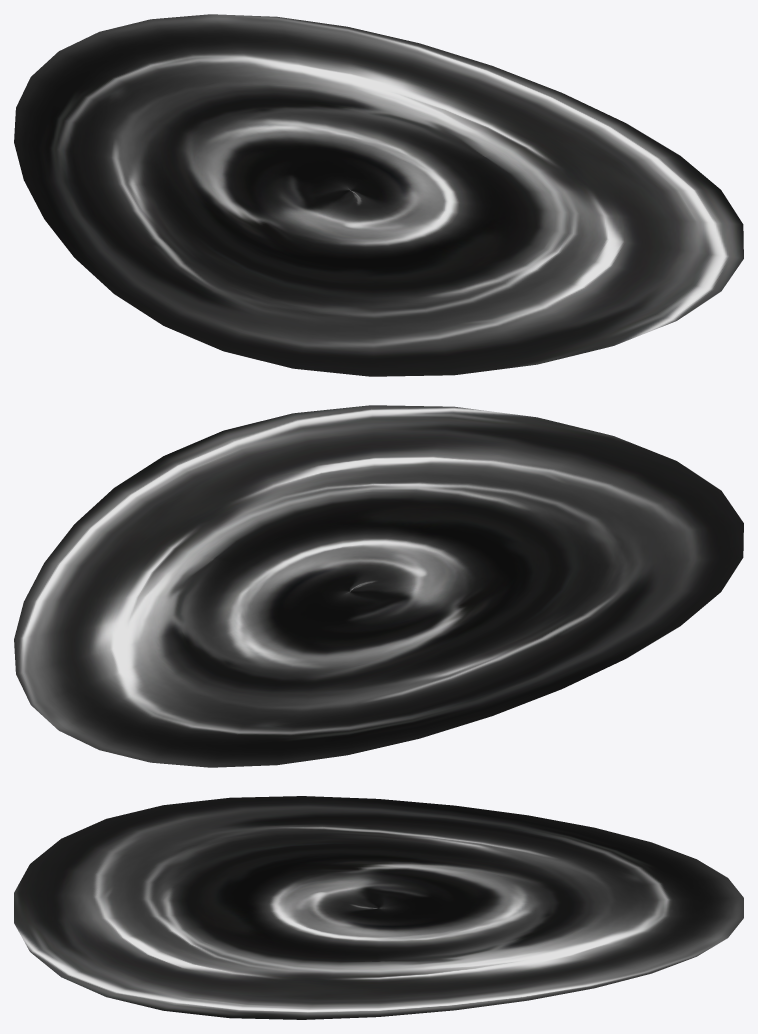
Rendered from E_guochang_zx_08_chuansongmen.FBX.
3 views of the same model, one above another, from view 1: azimuth 30°, elevation 25°; view 2: azimuth 150°, elevation 25°; view 3: azimuth 270°, elevation 25° (orthographic). The views are drawn at different scales.
Visible parts, largest first — view 1: E_guochang_zx_08_chuansongmen; view 2: E_guochang_zx_08_chuansongmen; view 3: E_guochang_zx_08_chuansongmen.
Part boxes in pixels (<box>): E_guochang_zx_08_chuansongmen: <box>14,14,743,376</box>; E_guochang_zx_08_chuansongmen: <box>14,405,743,767</box>; E_guochang_zx_08_chuansongmen: <box>14,796,743,1019</box>.
Bounding box in the file's own units: 29.16 × 1.95e-06 × 40.17.
